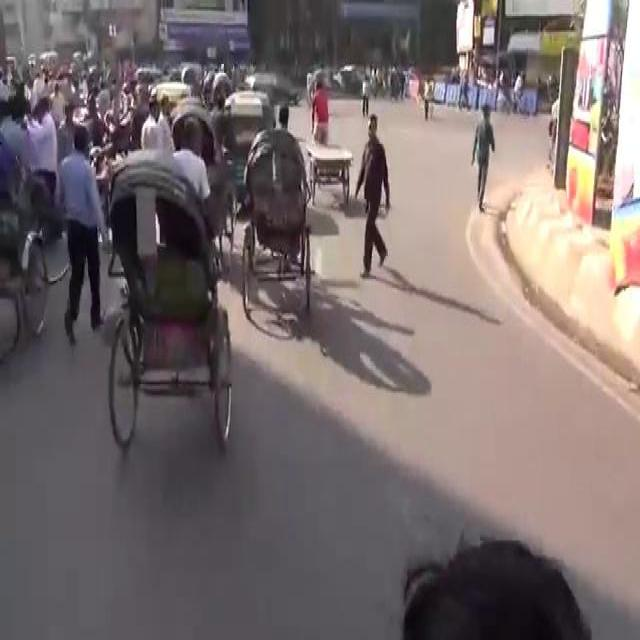rickshaw: (101, 143, 235, 454), (0, 121, 72, 341), (241, 127, 315, 317), (304, 73, 352, 208), (168, 94, 216, 156), (210, 69, 232, 105)
three wheelers -CNG-: (220, 86, 276, 196)
